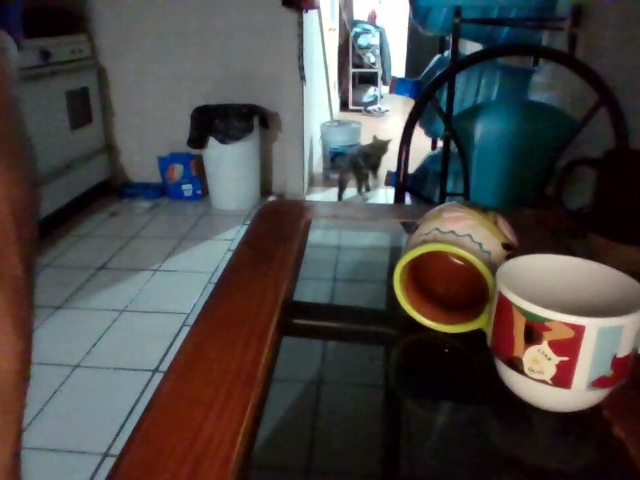taza: (489, 252, 640, 414), (392, 237, 497, 336)
